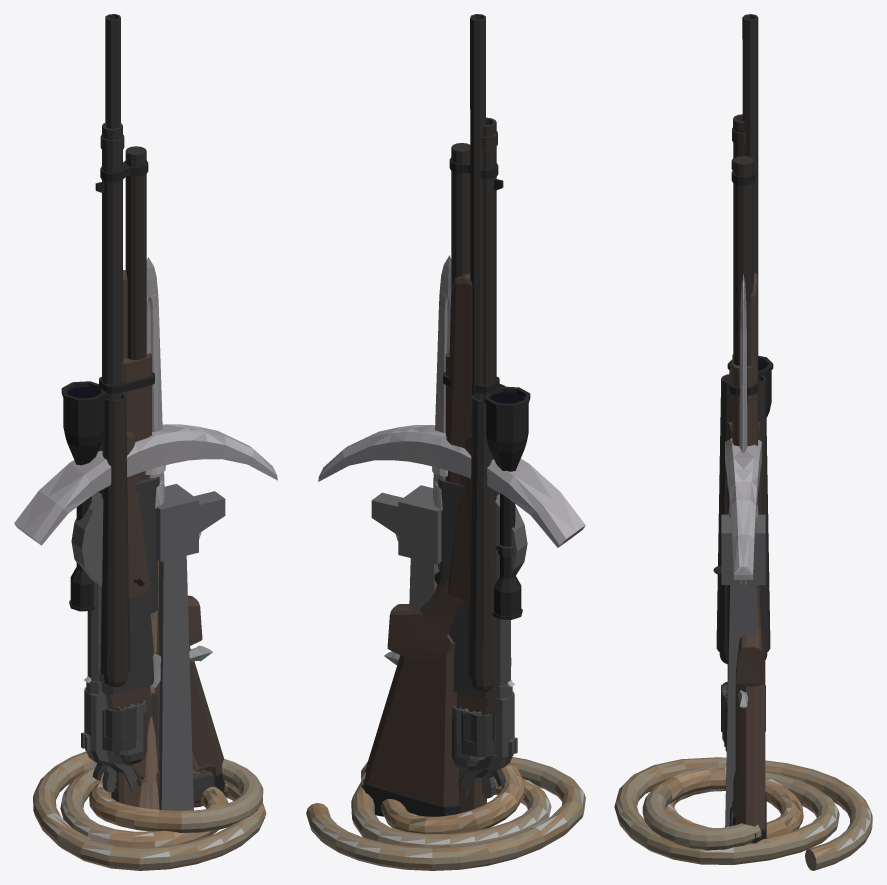
File: weapons.glb
The picture shows the model from 3 angles, left to right: view 1: azimuth 30°, elevation 25°; view 2: azimuth 150°, elevation 25°; view 3: azimuth 270°, elevation 25°; orthographic projection. The views are drawn at different scales.
Visible parts, largest first — view 1: w_lasso, w_rifle_lever, w_hatchet, w_shotgun, w_pickaxe, w_rifle_long, w_revolver_navy, w_sabre, w_revolver_six, w_revolver_short; view 2: w_rifle_long, w_lasso, w_shotgun, w_rifle_lever, w_pickaxe, w_hatchet, w_revolver_navy, w_sabre, w_revolver_short; view 3: w_lasso, w_rifle_long, w_rifle_lever, w_hatchet, w_shotgun, w_pickaxe, w_sabre.
Part boxes in pixels (x1=…): w_lasso: x1=33, y1=751, x2=266, y2=870; w_rifle_lever: x1=95, y1=122, x2=197, y2=806; w_hatchet: x1=71, y1=484, x2=225, y2=810; w_shotgun: x1=96, y1=393, x2=199, y2=804; w_pickaxe: x1=14, y1=424, x2=277, y2=809; w_rifle_long: x1=61, y1=14, x2=224, y2=807; w_revolver_navy: x1=81, y1=581, x2=215, y2=799; w_sabre: x1=84, y1=257, x2=212, y2=809; w_revolver_six: x1=107, y1=692, x2=159, y2=791; w_revolver_short: x1=102, y1=693, x2=206, y2=807; w_rifle_long: x1=361, y1=14, x2=530, y2=816; w_lasso: x1=306, y1=757, x2=585, y2=870; w_shotgun: x1=448, y1=384, x2=511, y2=779; w_rifle_lever: x1=438, y1=117, x2=503, y2=812; w_pickaxe: x1=318, y1=425, x2=585, y2=571; w_hatchet: x1=371, y1=485, x2=527, y2=609; w_revolver_navy: x1=459, y1=618, x2=517, y2=798; w_sabre: x1=384, y1=255, x2=514, y2=687; w_revolver_short: x1=452, y1=706, x2=496, y2=792; w_lasso: x1=614, y1=757, x2=872, y2=870; w_rifle_long: x1=713, y1=14, x2=773, y2=843; w_rifle_lever: x1=727, y1=114, x2=759, y2=806; w_hatchet: x1=721, y1=514, x2=765, y2=827; w_shotgun: x1=716, y1=374, x2=770, y2=810; w_pickaxe: x1=725, y1=438, x2=761, y2=579; w_sabre: x1=738, y1=274, x2=748, y2=708.
Bounding box in the file's own units: 0.3733 × 1.15 × 0.34.
